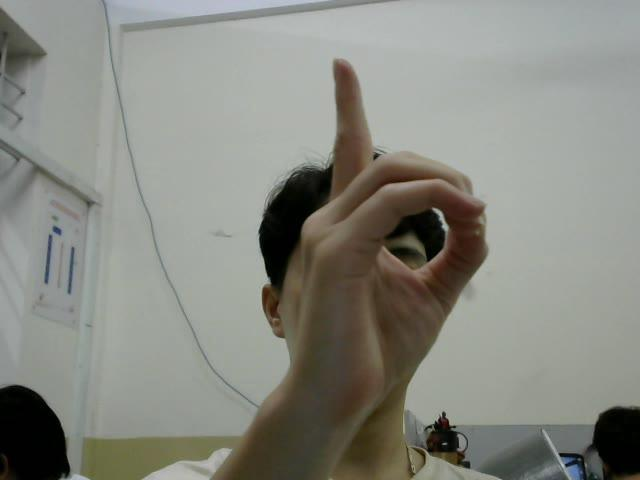D: (296, 56, 488, 404)
